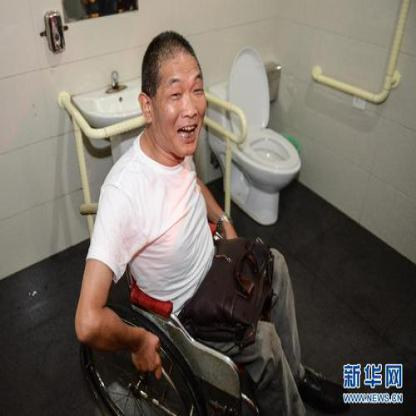wheelchair: (78, 23, 338, 415)
